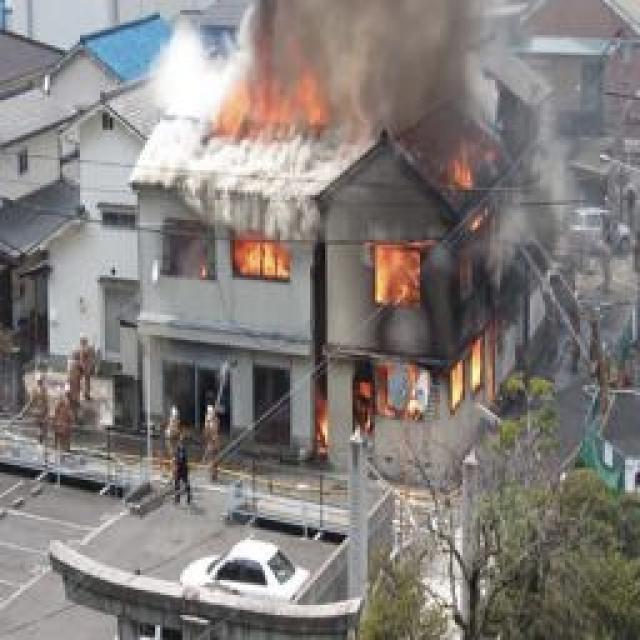Fire: (347, 150, 517, 447), (213, 25, 335, 144), (221, 232, 296, 288)
